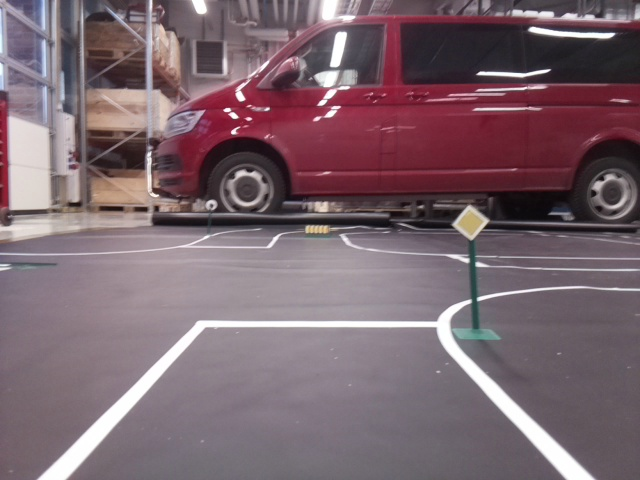Priority: (452, 202, 489, 241)
